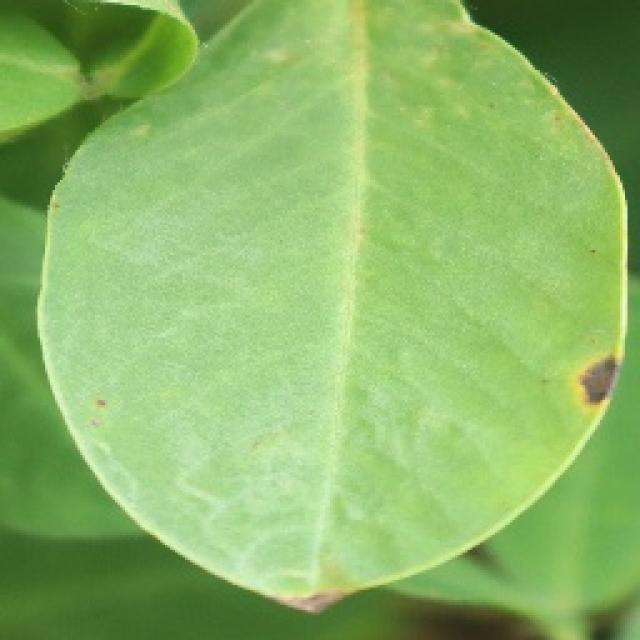Early_leaf_spot: (440, 9, 572, 136), (61, 378, 144, 451), (275, 575, 355, 622)
